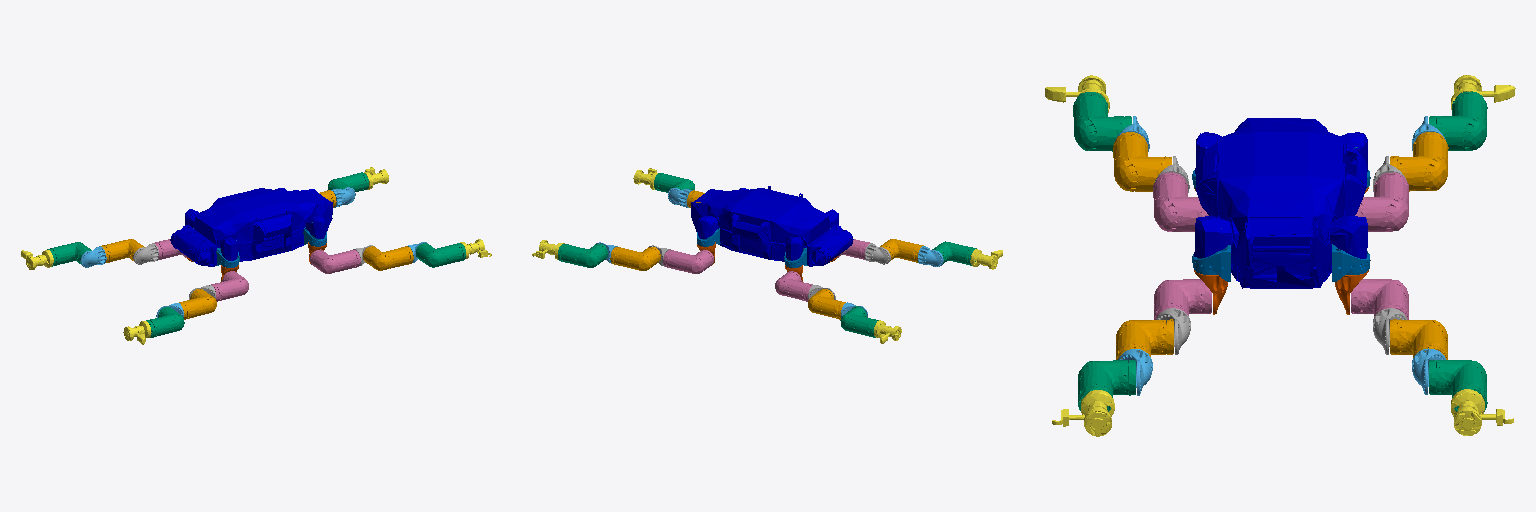
--- Render facts (derived) ---
3 views of the same robot in one strip: view 1: azimuth 30°, elevation 25°; view 2: azimuth 150°, elevation 25°; view 3: azimuth 270°, elevation 25° (orthographic).
Robot: robosimian_caesar — 36 links, 35 joints (17 revolute, 2 prismatic, 16 fixed); root link virtual0; default pose: every joint at zero.
Visible links, largest first — view 1: torso, limb1_link2, limb1_link4, limb1_link6, limb2_link6, limb2_link2, limb2_link4, limb3_link6, limb3_link4, limb4_link6; view 2: torso, limb4_link2, limb4_link4, limb4_link6, limb3_link6, limb3_link2, limb3_link4, limb2_link6, limb2_link4, limb1_link6; view 3: torso, limb2_link4, limb2_link6, limb3_link6, limb3_link4, limb3_link2, limb2_link2, limb1_link6, limb4_link6, limb4_link4, limb1_link4, limb4_link2 (+13 smaller).
Boxes of the visible links, left/top/right/bottom form: torso: left=170, top=188, right=332, bottom=266; limb1_link2: left=310, top=249, right=360, bottom=273; limb1_link4: left=363, top=246, right=413, bottom=270; limb1_link6: left=416, top=243, right=465, bottom=267; limb2_link6: left=146, top=307, right=184, bottom=337; limb2_link2: left=211, top=271, right=248, bottom=301; limb2_link4: left=179, top=289, right=216, bottom=319; limb3_link6: left=47, top=242, right=91, bottom=266; limb3_link4: left=101, top=239, right=144, bottom=262; limb4_link6: left=328, top=172, right=368, bottom=191; torso: left=691, top=186, right=853, bottom=266; limb4_link2: left=663, top=250, right=713, bottom=273; limb4_link4: left=610, top=247, right=660, bottom=270; limb4_link6: left=558, top=244, right=607, bottom=267; limb3_link6: left=840, top=306, right=878, bottom=337; limb3_link2: left=775, top=271, right=812, bottom=301; limb3_link4: left=808, top=289, right=845, bottom=319; limb2_link6: left=932, top=241, right=976, bottom=265; limb2_link4: left=880, top=239, right=923, bottom=262; limb1_link6: left=654, top=173, right=694, bottom=192; torso: left=1194, top=118, right=1367, bottom=288; limb2_link4: left=1113, top=132, right=1171, bottom=191; limb2_link6: left=1073, top=92, right=1131, bottom=151; limb3_link6: left=1429, top=91, right=1487, bottom=150; limb3_link4: left=1390, top=132, right=1448, bottom=191; limb3_link2: left=1355, top=172, right=1408, bottom=231; limb2_link2: left=1153, top=172, right=1208, bottom=231; limb1_link6: left=1078, top=360, right=1135, bottom=411; limb4_link6: left=1429, top=360, right=1487, bottom=411; limb4_link4: left=1390, top=319, right=1447, bottom=359; limb1_link4: left=1116, top=319, right=1173, bottom=359; limb4_link2: left=1351, top=279, right=1408, bottom=319.
Bounding box of the posed robot: 2.39 × 1.41 × 0.3943 m (x, y, z).
33 mesh visuals loaded from 6 distinct referenced files (6 binary STL).

robot.urdf — robosimian_caesar:
<robot name="robosimian_caesar">
  <link name="virtual0">
    <inertial>
      <origin xyz="0 0 0" rpy="0 0 0"/>
      <mass value="0"/>
      <inertia ixx="0" ixy="0" ixz="0" iyy="0" iyz="0" izz="0" />
    </inertial>
  </link>

  <link name="virtual1">
    <inertial>
      <origin xyz="0 0 0" rpy="0 0 0"/>
      <mass value="0"/>
      <inertia ixx="0" ixy="0" ixz="0" iyy="0" iyz="0" izz="0" />
    </inertial>
  </link>

  <link name="virtual2">
    <inertial>
      <origin xyz="0 0 0" rpy="0 0 0"/>
      <mass value="0"/>
      <inertia ixx="0" ixy="0" ixz="0" iyy="0" iyz="0" izz="0" />
    </inertial>
  </link>

   <link name="torso">
      <inertial>
        <mass value="40.000000" />
        <origin xyz="-0.000820 -0.002060 -0.021800" rpy="0 0 0" />
        <inertia ixx="0.248970" ixy="0.000000" ixz="0.000000" iyy="0.703230" iyz="0.001820" izz="0.772560" />
      </inertial>
      <visual>
        <origin xyz="0 0 0" rpy="3.1415926 0 0" />
        <geometry>
           <mesh filename="stl_0_3/robosim_chassis.stl" scale="1 1 1" />
        </geometry>
        <material name="blue">
	      <color rgba="0 0 .8 1" />
        </material>
      </visual>
      <collision group="default">
        <origin rpy="3.1415926 0 0" xyz="0 0 0"/>
        <geometry>
           <box size="0.257 0.50 0.238"/>
        </geometry>
      </collision>
      <collision group="default">
        <origin rpy="3.1415926 0 0" xyz="0 0 0"/>
        <geometry>
           <box size="0.93 0.230 0.238"/>
        </geometry>
      </collision>
      <collision group="default">
        <origin rpy="3.1415926 0 -0.38153" xyz="0.25393 0.075769 0"/>
        <geometry>
           <box size="0.36257 0.23 0.238"/>
        </geometry>
      </collision>
      <collision group="default">
        <origin rpy="3.1415926 0 0.38153" xyz="-0.25393 0.075769 0"/>
        <geometry>
           <box size="0.36257 0.23 0.238"/>
        </geometry>
      </collision>
      <collision group="default">
        <origin rpy="3.1415926 0 0.38153" xyz="0.25393 -0.075769 0"/>
        <geometry>
           <box size="0.36257 0.23 0.238"/>
        </geometry>
      </collision>
      <collision group="default">
        <origin rpy="3.1415926 0 -0.38153" xyz="-0.25393 -0.075769 0"/>
        <geometry>
           <box size="0.36257 0.23 0.238"/>
        </geometry>
      </collision>
      <collision group="default">
        <origin rpy="3.1415926 -0.383972 0.000000" xyz="0.417050 0.000000 -0.158640"/>
        <geometry>
          <cylinder length="0.144" radius="0.05"/>
        </geometry>
      </collision>
   </link>

   <link name="limb1_link0">
      <inertial>
        <mass value="0.000000" />
        <origin xyz="0.000000 0.000000 0.000000" rpy="0 0 0" />
        <inertia ixx="0.000000" ixy="0.000000" ixz="0.000000" iyy="0.000000" iyz="0.000000" izz="0.000000" />
      </inertial>
      <visual>
        <origin xyz="0.000000 0 0" rpy="0 0 0" />
        <geometry>
           <mesh filename="stl_0_3/robosim_fts.stl" scale="1 1 1" />
        </geometry>
      </visual>
      <collision group="default">
        <origin rpy="3.1415 -1.57080 0" xyz="-.025 0 0"/>
        <geometry>
          <cylinder length="0.145" radius="0.05"/>
        </geometry>
      </collision>
   </link>

   <link name="limb1_link1">
      <inertial>
        <mass value="0.429000" />
        <origin xyz="-0.050402 0.012816 0.000000" rpy="0 0 0" />
        <inertia ixx="0.000741" ixy="-0.000215" ixz="0.000000" iyy="0.002044" iyz="0.000000" izz="0.001885" />
      </inertial>
      <visual>
        <origin xyz="0.000000 0 0" rpy="0 0 0" />
        <geometry>
           <mesh filename="stl_0_3/robosim_pitch_link.stl" scale="1 1 1" />
        </geometry>
      </visual>
      <collision group="default">
        <origin rpy="3.1415 -1.57080 0" xyz="-0.07 0 0"/>
        <geometry>
          <cylinder length="0.07" radius="0.055"/>
        </geometry>
      </collision>
   </link>

   <link name="limb1_link2">
      <inertial>
        <mass value="3.975000" />
        <origin xyz="0.067354 -0.096472 0.000262" rpy="0 0 0" />
        <inertia ixx="0.044712" ixy="-0.030354" ixz="0.000012" iyy="0.033445" iyz="-0.000141" izz="0.074293" />
      </inertial>
      <visual>
        <origin xyz="0.000000 0 0" rpy="0 0 0" />
        <geometry>
           <mesh filename="stl_0_3/robosim_roll_link.stl" scale="1 1 1" />
        </geometry>
      </visual>
      <collision group="default">
        <origin rpy="3.1415 -1.57080 0" xyz="0.065 -0.12 0"/>
        <geometry>
          <cylinder length="0.24" radius="0.055"/>
        </geometry>
      </collision>
      <collision group="default">
        <origin rpy="1.57080 1.57080 0.0" xyz="0.0 -0.035 0"/>
        <geometry>
          <cylinder length="0.075" radius="0.055"/>
        </geometry>
      </collision>
   </link>

   <link name="limb1_link3">
      <inertial>
        <mass value="0.429000" />
        <origin xyz="-0.050402 0.012816 0.000000" rpy="0 0 0" />
        <inertia ixx="0.000741" ixy="-0.000215" ixz="0.000000" iyy="0.002044" iyz="0.000000" izz="0.001885" />
      </inertial>
      <visual>
        <origin xyz="0.000000 0 0" rpy="0 0 0" />
        <geometry>
           <mesh filename="stl_0_3/robosim_pitch_link.stl" scale="1 1 1" />
        </geometry>
      </visual>
      <collision group="default">
        <origin rpy="3.1415 -1.57080 0" xyz="-0.07 0 0"/>
        <geometry>
          <cylinder length="0.07" radius="0.055"/>
        </geometry>
      </collision>
   </link>

   <link name="limb1_link4">
      <inertial>
        <mass value="3.975000" />
        <origin xyz="0.067354 -0.096472 0.000262" rpy="0 0 0" />
        <inertia ixx="0.044712" ixy="-0.030354" ixz="0.000012" iyy="0.033445" iyz="-0.000141" izz="0.074293" />
      </inertial>
      <visual>
        <origin xyz="0.000000 0 0" rpy="0 0 0" />
        <geometry>
           <mesh filename="stl_0_3/robosim_roll_link.stl" scale="1 1 1" />
        </geometry>
      </visual>
      <collision group="default">
        <origin rpy="3.1415 -1.57080 0" xyz="0.065 -0.12 0"/>
        <geometry>
          <cylinder length="0.24" radius="0.055"/>
        </geometry>
      </collision>
      <collision group="default">
        <origin rpy="1.57080 1.57080 0.0" xyz="0.0 -0.035 0"/>
        <geometry>
          <cylinder length="0.075" radius="0.055"/>
        </geometry>
      </collision>
   </link>

   <link name="limb1_link5">
      <inertial>
        <mass value="0.429000" />
        <origin xyz="-0.050402 0.012816 0.000000" rpy="0 0 0" />
        <inertia ixx="0.000741" ixy="-0.000215" ixz="0.000000" iyy="0.002044" iyz="0.000000" izz="0.001885" />
      </inertial>
      <visual>
        <origin xyz="0.000000 0 0" rpy="0 0 0" />
        <geometry>
           <mesh filename="stl_0_3/robosim_pitch_link.stl" scale="1 1 1" />
        </geometry>
      </visual>
      <collision group="default">
        <origin rpy="3.1415 -1.57080 0" xyz="-0.07 0 0"/>
        <geometry>
          <cylinder length="0.07" radius="0.055"/>
        </geometry>
      </collision>
   </link>

   <link name="limb1_link6">
      <inertial>
        <mass value="3.975000" />
        <origin xyz="0.067354 -0.096472 0.000262" rpy="0 0 0" />
        <inertia ixx="0.044712" ixy="-0.030354" ixz="0.000012" iyy="0.033445" iyz="-0.000141" izz="0.074293" />
      </inertial>
      <visual>
        <origin xyz="0.000000 0 0" rpy="0 0 0" />
        <geometry>
           <mesh filename="stl_0_3/robosim_roll_link.stl" scale="1 1 1" />
        </geometry>
      </visual>
      <collision group="default">
        <origin rpy="3.1415 -1.57080 0" xyz="0.065 -0.12 0"/>
        <geometry>
          <cylinder length="0.24" radius="0.055"/>
        </geometry>
      </collision>
      <collision group="default">
        <origin rpy="1.57080 1.57080 0.0" xyz="0.0 -0.035 0"/>
        <geometry>
          <cylinder length="0.075" radius="0.055"/>
        </geometry>
      </collision>
   </link>

   <link name="limb1_link7">
      <inertial>
        <mass value="1.760000" />
        <origin xyz="0.112290 -0.000164 0.000000" rpy="0 0 0" />
        <inertia ixx="0.001913" ixy="-0.000007" ixz="0.000000" iyy="0.006680" iyz="0.000000" izz="0.006125" />
      </inertial>
      <visual>
        <origin xyz="0.000000 0 0" rpy="0 0 0" />
        <geometry>
           <mesh filename="stl_0_3/top_limb.stl" scale="0.001 0.001 0.001" />
        </geometry>
      </visual>
      <collision group="default">
        <origin rpy="3.1415 -1.57080 0" xyz="0.073 0 0"/>
        <geometry>
          <cylinder length="0.146" radius="0.05"/>
        </geometry>
      </collision>
   </link>




    <joint name="torso_x" type="prismatic">
      <origin xyz="0.0 0.0 0.0"  rpy="0.00000 -0.00000 0.00000" />
      <axis xyz="1 0 0" />
      <parent link="virtual0" />
      <child link="virtual1" />
      <limit effort="100000.0" lower="-1000" upper="1000" velocity="0"/>
   </joint>

      <joint name="torso_z" type="prismatic">
      <origin xyz="0.0 0.0 0.0"  rpy="0.00000 -0.00000 0.00000" />
      <axis xyz="0 0 1" />
      <parent link="virtual1" />
      <child link="virtual2" />
      <limit effort="100000.0" lower="-1000" upper="1000" velocity="0"/>
   </joint>


   <joint name="torso_a" type="revolute">
      <origin xyz="0.0 0.0 0.0"  rpy="0.00000 -0.00000 0.00000" />
      <axis xyz="0 1 0" />
      <parent link="virtual2" />
      <child link="torso" />
      <limit effort="1000.0" lower="-3" upper="3" velocity="100"/>
   </joint>

   <joint name="limb1_joint0" type="fixed">
      <origin xyz="0.29326 -0.20940 -0.03650"  rpy="0.00000 1.57080 3.1515926" />
      <parent link="torso" />
      <child link="limb1_link0" />
      <axis xyz="0 0 1" />
      <limit effort="1000.0" lower="-3.4906" upper="3.4906" velocity="0.5"/>
      <dynamics damping="0" friction="0"/>
   </joint>

   <joint name="limb1_joint1" type="fixed">
      <origin xyz="0.17203 0.00000 0.00000"  rpy="3.14159 -0.00000 0.00000" />
      <axis xyz="1 0 0" />
      <parent link="limb1_link0" />
      <child link="limb1_link1" />
      <limit effort="1000.0" lower="-3.1415" upper="3.1415" velocity="0.5"/>
      <dynamics damping="1.000000" friction="10.000000"/>
   </joint>

   <joint name="limb1_joint2" type="revolute">
      <origin xyz="0.00000 0.00000 0.00000"  rpy="0.00000 -1.5708 0.00000" />
      <axis xyz="0 -1 0" />
      <parent link="limb1_link1" />
      <child link="limb1_link2" />
      <limit effort="1000.0" lower="-3.1415" upper="3.1415" velocity="0.5"/>
      <dynamics damping="1.000000" friction="10.000000"/>
   </joint>

   <joint name="limb1_joint3" type="fixed">
      <origin xyz="0.28650 -0.11700 0.00000"  rpy="0.00000 -0.00000 0.00000" />
      <axis xyz="1 0 0" />
      <parent link="limb1_link2" />
      <child link="limb1_link3" />
      <limit effort="1000.0" lower="-3.1415" upper="3.1415" velocity="0.5"/>
      <dynamics damping="1.000000" friction="10.000000"/>
   </joint>

   <joint name="limb1_joint4" type="revolute">
      <origin xyz="0.00000 0.00000 0.00000"  rpy="0.00000 -0.00000 0.00000" />
      <axis xyz="0 -1 0" />
      <parent link="limb1_link3" />
      <child link="limb1_link4" />
      <limit effort="1000.0" lower="-3.1415" upper="3.1415" velocity="0.5"/>
      <dynamics damping="1.000000" friction="10.000000"/>
   </joint>

   <joint name="limb1_joint5" type="fixed">
      <origin xyz="0.28650 -0.11700 0.00000"  rpy="0.00000 -0.00000 0.00000" />
      <axis xyz="1 0 0" />
      <parent link="limb1_link4" />
      <child link="limb1_link5" />
      <limit effort="1000.0" lower="-3.1415" upper="3.1415" velocity="0.5"/>
      <dynamics damping="1.000000" friction="10.000000"/>
   </joint>

   <joint name="limb1_joint6" type="revolute">
      <origin xyz="0.00000 0.00000 0.00000"  rpy="0.00000 -0.00000 0.00000" />
      <axis xyz="0 -1 0" />
      <parent link="limb1_link5" />
      <child link="limb1_link6" />
      <limit effort="1000.0" lower="-3.1415" upper="3.1415" velocity="0.5"/>
      <dynamics damping="1.000000" friction="10.000000"/>
   </joint>

   <joint name="limb1_joint7" type="revolute">
      <origin xyz="0.19250 -0.11700 0.00000"  rpy="0.00000 -0.00000 0.00000" />
      <axis xyz="1 0 0" />
      <parent link="limb1_link6" />
      <child link="limb1_link7" />
      <limit effort="0.0" lower="0" upper="0" velocity="0"/>
      <dynamics damping="1.000000" friction="10.000000"/>
   </joint>



   <link name="limb2_link0">
      <inertial>
        <mass value="0.000000" />
        <origin xyz="0.000000 0.000000 0.000000" rpy="0 0 0" />
        <inertia ixx="0.000000" ixy="0.000000" ixz="0.000000" iyy="0.000000" iyz="0.000000" izz="0.000000" />
      </inertial>
      <visual>
        <origin xyz="0.000000 0 0" rpy="0 0 0" />
        <geometry>
           <mesh filename="stl_0_3/robosim_fts.stl" scale="1 1 1" />
        </geometry>
      </visual>
      <collision group="default">
        <origin rpy="3.1415 -1.57080 0" xyz="-.025 0 0"/>
        <geometry>
          <cylinder length="0.145" radius="0.05"/>
        </geometry>
      </collision>
   </link>

   <link name="limb2_link1">
      <inertial>
        <mass value="0.429000" />
        <origin xyz="-0.050402 0.012816 0.000000" rpy="0 0 0" />
        <inertia ixx="0.000741" ixy="-0.000215" ixz="0.000000" iyy="0.002044" iyz="0.000000" izz="0.001885" />
      </inertial>
      <visual>
        <origin xyz="0.000000 0 0" rpy="0 0 0" />
        <geometry>
           <mesh filename="stl_0_3/robosim_pitch_link.stl" scale="1 1 1" />
        </geometry>
      </visual>
      <collision group="default">
        <origin rpy="3.1415 -1.57080 0" xyz="-0.07 0 0"/>
        <geometry>
          <cylinder length="0.07" radius="0.055"/>
        </geometry>
      </collision>
   </link>

   <link name="limb2_link2">
      <inertial>
        <mass value="3.975000" />
        <origin xyz="0.067354 -0.096472 0.000262" rpy="0 0 0" />
        <inertia ixx="0.044712" ixy="-0.030354" ixz="0.000012" iyy="0.033445" iyz="-0.000141" izz="0.074293" />
      </inertial>
      <visual>
        <origin xyz="0.000000 0 0" rpy="0 0 0" />
        <geometry>
           <mesh filename="stl_0_3/robosim_roll_link.stl" scale="1 1 1" />
        </geometry>
      </visual>
      <collision group="default">
        <origin rpy="3.1415 -1.57080 0" xyz="0.065 -0.12 0"/>
        <geometry>
          <cylinder length="0.24" radius="0.055"/>
        </geometry>
      </collision>
      <collision group="default">
        <origin rpy="1.57080 1.57080 0.0" xyz="0.0 -0.035 0"/>
        <geometry>
          <cylinder length="0.075" radius="0.055"/>
        </geometry>
      </collision>
   </link>

   <link name="limb2_link3">
      <inertial>
        <mass value="0.429000" />
        <origin xyz="-0.050402 0.012816 0.000000" rpy="0 0 0" />
        <inertia ixx="0.000741" ixy="-0.000215" ixz="0.000000" iyy="0.002044" iyz="0.000000" izz="0.001885" />
      </inertial>
      <visual>
        <origin xyz="0.000000 0 0" rpy="0 0 0" />
        <geometry>
           <mesh filename="stl_0_3/robosim_pitch_link.stl" scale="1 1 1" />
        </geometry>
      </visual>
      <collision group="default">
        <origin rpy="3.1415 -1.57080 0" xyz="-0.07 0 0"/>
        <geometry>
          <cylinder length="0.07" radius="0.055"/>
        </geometry>
      </collision>
   </link>

   <link name="limb2_link4">
      <inertial>
        <mass value="3.975000" />
        <origin xyz="0.067354 -0.096472 0.000262" rpy="0 0 0" />
        <inertia ixx="0.044712" ixy="-0.030354" ixz="0.000012" iyy="0.033445" iyz="-0.000141" izz="0.074293" />
      </inertial>
      <visual>
        <origin xyz="0.000000 0 0" rpy="0 0 0" />
        <geometry>
           <mesh filename="stl_0_3/robosim_roll_link.stl" scale="1 1 1" />
        </geometry>
      </visual>
      <collision group="default">
        <origin rpy="3.1415 -1.57080 0" xyz="0.065 -0.12 0"/>
        <geometry>
          <cylinder length="0.24" radius="0.055"/>
        </geometry>
      </collision>
      <collision group="default">
        <origin rpy="1.57080 1.57080 0.0" xyz="0.0 -0.035 0"/>
        <geometry>
          <cylinder length="0.075" radius="0.055"/>
        </geometry>
      </collision>
   </link>

   <link name="limb2_link5">
      <inertial>
        <mass value="0.429000" />
        <origin xyz="-0.050402 0.012816 0.000000" rpy="0 0 0" />
        <inertia ixx="0.000741" ixy="-0.000215" ixz="0.000000" iyy="0.002044" iyz="0.000000" izz="0.001885" />
      </inertial>
      <visual>
        <origin xyz="0.000000 0 0" rpy="0 0 0" />
        <geometry>
           <mesh filename="stl_0_3/robosim_pitch_link.stl" scale="1 1 1" />
        </geometry>
      </visual>
      <collision group="default">
        <origin rpy="3.1415 -1.57080 0" xyz="-0.07 0 0"/>
        <geometry>
          <cylinder length="0.07" radius="0.055"/>
        </geometry>
      </collision>
   </link>

   <link name="limb2_link6">
      <inertial>
        <mass value="3.975000" />
        <origin xyz="0.067354 -0.096472 0.000262" rpy="0 0 0" />
        <inertia ixx="0.044712" ixy="-0.030354" ixz="0.000012" iyy="0.033445" iyz="-0.000141" izz="0.074293" />
      </inertial>
      <visual>
        <origin xyz="0.000000 0 0" rpy="0 0 0" />
        <geometry>
           <mesh filename="stl_0_3/robosim_roll_link.stl" scale="1 1 1" />
        </geometry>
      </visual>
      <collision group="default">
        <origin rpy="3.1415 -1.57080 0" xyz="0.065 -0.12 0"/>
        <geometry>
          <cylinder length="0.24" radius="0.055"/>
        </geometry>
      </collision>
      <collision group="default">
        <origin rpy="1.57080 1.57080 0.0" xyz="0.0 -0.035 0"/>
        <geometry>
          <cylinder length="0.075" radius="0.055"/>
        </geometry>
      </collision>
      <collision group="default">
        <origin rpy="1.57080 1.57080 0.0" xyz="0.0 -0.19 0"/>
        <geometry>
          <cylinder length="0.0375" radius="0.080"/>
        </geometry>
      </collision>
   </link>

   <link name="limb2_link7">
      <inertial>
        <mass value="1.760000" />
        <origin xyz="0.112290 -0.000164 0.000000" rpy="0 0 0" />
        <inertia ixx="0.001913" ixy="-0.000007" ixz="0.000000" iyy="0.006680" iyz="0.000000" izz="0.006125" />
      </inertial>
      <visual>
        <origin xyz="0.000000 0 0" rpy="0 0 0" />
        <geometry>
           <mesh filename="stl_0_3/bottom_limb.stl" scale="0.001 0.001 0.001" />
        </geometry>
      </visual>
      <collision group="default">
        <origin rpy="3.1415 -1.57080 0" xyz="0.073 0 0"/>
        <geometry>
          <cylinder length="0.146" radius="0.05"/>
        </geometry>
      </collision>
   </link>


   <joint name="limb2_joint0" type="fixed">
      <origin xyz="-0.29326 -0.20940 -0.03650"  rpy="0.00000 1.57080 3.1515926" />
      <parent link="torso" />
      <child link="limb2_link0" />
      <axis xyz="0 0 1" />
      <limit effort="1000.0" lower="-3.4906" upper="3.4906" velocity="0.5"/>
      <dynamics damping="0" friction="0"/>
   </joint>

   <joint name="limb2_joint1" type="fixed">
      <origin xyz="0.17203 0.00000 0.00000"  rpy="3.14159 -0.00000 0.00000" />
      <axis xyz="1 0 0" />
      <parent link="limb2_link0" />
      <child link="limb2_link1" />
      <limit effort="1000.0" lower="-3.1415" upper="3.1415" velocity="0.5"/>
      <dynamics damping="1.000000" friction="10.000000"/>
   </joint>

   <joint name="limb2_joint2" type="revolute">
      <origin xyz="0.00000 0.00000 0.00000"  rpy="0.00000 1.57080 0.00000" />
      <axis xyz="0 -1 0" />
      <parent link="limb2_link1" />
      <child link="limb2_link2" />
      <limit effort="1000.0" lower="-3.1415" upper="3.1415" velocity="0.5"/>
      <dynamics damping="1.000000" friction="10.000000"/>
   </joint>

   <joint name="limb2_joint3" type="fixed">
      <origin xyz="0.28650 -0.11700 0.00000"  rpy="0.00000 -0.00000 0.00000" />
      <axis xyz="1 0 0" />
      <parent link="limb2_link2" />
      <child link="limb2_link3" />
      <limit effort="1000.0" lower="-3.1415" upper="3.1415" velocity="0.5"/>
      <dynamics damping="1.000000" friction="10.000000"/>
   </joint>

   <joint name="limb2_joint4" type="revolute">
      <origin xyz="0.00000 0.00000 0.00000"  rpy="0.00000 -0.00000 0.00000" />
      <axis xyz="0 -1 0" />
      <parent link="limb2_link3" />
      <child link="limb2_link4" />
      <limit effort="1000.0" lower="-3.1415" upper="3.1415" velocity="0.5"/>
      <dynamics damping="1.000000" friction="10.000000"/>
   </joint>

   <joint name="limb2_joint5" type="fixed">
      <origin xyz="0.28650 -0.11700 0.00000"  rpy="0.00000 -0.00000 0.00000" />
      <axis xyz="1 0 0" />
      <parent link="limb2_link4" />
      <child link="limb2_link5" />
      <limit effort="1000.0" lower="-3.1415" upper="3.1415" velocity="0.5"/>
      <dynamics damping="1.000000" friction="10.000000"/>
   </joint>

   <joint name="limb2_joint6" type="revolute">
      <origin xyz="0.00000 0.00000 0.00000"  rpy="0.00000 -0.00000 0.00000" />
      <axis xyz="0 -1 0" />
      <parent link="limb2_link5" />
      <child link="limb2_link6" />
      <limit effort="1000.0" lower="-3.1415" upper="3.1415" velocity="0.5"/>
      <dynamics damping="1.000000" friction="10.000000"/>
   </joint>

   <joint name="limb2_joint7" type="revolute">
      <origin xyz="0.19250 -0.11700 0.00000"  rpy="0.00000 -0.00000 0.00000" />
      <axis xyz="1 0 0" />
      <parent link="limb2_link6" />
      <child link="limb2_link7" />
      <limit effort="0.0" lower="0" upper="0" velocity="0"/>
      <dynamics damping="1.000000" friction="10.000000"/>
   </joint>




   <link name="limb3_link0">
      <inertial>
        <mass value="0.000000" />
        <origin xyz="0.000000 0.000000 0.000000" rpy="0 0 0" />
        <inertia ixx="0.000000" ixy="0.000000" ixz="0.000000" iyy="0.000000" iyz="0.000000" izz="0.000000" />
      </inertial>
      <visual>
        <origin xyz="0.000000 0 0" rpy="0 0 0" />
        <geometry>
           <mesh filename="stl_0_3/robosim_fts.stl" scale="1 1 1" />
        </geometry>
      </visual>
      <collision group="default">
        <origin rpy="3.1415 -1.57080 0" xyz="-.025 0 0"/>
        <geometry>
          <cylinder length="0.145" radius="0.05"/>
        </geometry>
      </collision>
   </link>

   <link name="limb3_link1">
      <inertial>
        <mass value="0.429000" />
        <origin xyz="-0.050402 0.012816 0.000000" rpy="0 0 0" />
        <inertia ixx="0.000741" ixy="-0.000215" ixz="0.000000" iyy="0.002044" iyz="0.000000" izz="0.001885" />
      </inertial>
      <visual>
        <origin xyz="0.000000 0 0" rpy="0 0 0" />
        <geometry>
           <mesh filename="stl_0_3/robosim_pitch_link.stl" scale="1 1 1" />
        </geometry>
      </visual>
      <collision group="default">
        <origin rpy="3.1415 -1.57080 0" xyz="-0.07 0 0"/>
        <geometry>
          <cylinder length="0.07" radius="0.055"/>
        </geometry>
      </collision>
   </link>

   <link name="limb3_link2">
      <inertial>
        <mass value="3.975000" />
        <origin xyz="0.067354 -0.096472 0.000262" rpy="0 0 0" />
        <inertia ixx="0.044712" ixy="-0.030354" ixz="0.000012" iyy="0.033445" iyz="-0.000141" izz="0.074293" />
      </inertial>
      <visual>
        <origin xyz="0.000000 0 0" rpy="0 0 0" />
        <geometry>
           <mesh filename="stl_0_3/robosim_roll_link.stl" scale="1 1 1" />
        </geometry>
      </visual>
      <collision group="default">
        <origin rpy="3.1415 -1.57080 0" xyz="0.065 -0.12 0"/>
        <geometry>
          <cylinder length="0.24" radius="0.055"/>
        </geometry>
      </collision>
      <collision group="default">
        <origin rpy="1.57080 1.57080 0.0" xyz="0.0 -0.035 0"/>
        <geometry>
          <cylinder length="0.075" radius="0.055"/>
        </geometry>
      </collision>
   </link>

   <link name="limb3_link3">
      <inertial>
        <mass value="0.429000" />
        <origin xyz="-0.050402 0.012816 0.000000" rpy="0 0 0" />
        <inertia ixx="0.000741" ixy="-0.000215" ixz="0.000000" iyy="0.002044" iyz="0.000000" izz="0.001885" />
      </inertial>
      <visual>
        <origin xyz="0.000000 0 0" rpy="0 0 0" />
        <geometry>
           <mesh filename="stl_0_3/robosim_pitch_link.stl" scale="1 1 1" />
        </geometry>
      </visual>
      <collision group="default">
        <origin rpy="3.1415 -1.57080 0" xyz="-0.07 0 0"/>
        <geometry>
          <cylinder length="0.07" radius="0.055"/>
        </geometry>
      </collision>
   </link>

   <link name="limb3_link4">
      <inertial>
        <mass value="3.975000" />
        <origin xyz="0.067354 -0.096472 0.000262" rpy="0 0 0" />
        <inertia ixx="0.044712" ixy="-0.030354" ixz="0.000012" iyy="0.033445" iyz="-0.000141" izz="0.074293" />
      </inertial>
      <visual>
        <origin xyz="0.000000 0 0" rpy="0 0 0" />
        <geometry>
           <mesh filename="stl_0_3/robosim_roll_link.stl" scale="1 1 1" />
        </geometry>
      </visual>
      <collision group="default">
        <origin rpy="3.1415 -1.57080 0" xyz="0.065 -0.12 0"/>
        <geometry>
          <cylinder length="0.24" radius="0.055"/>
        </geometry>
      </collision>
      <collision group="default">
        <origin rpy="1.57080 1.57080 0.0" xyz="0.0 -0.035 0"/>
        <geometry>
          <cylinder length="0.075" radius="0.055"/>
        </geometry>
      </collision>
   </link>

   <link name="limb3_link5">
      <inertial>
        <mass value="0.429000" />
        <origin xyz="-0.050402 0.012816 0.000000" rpy="0 0 0" />
        <inertia ixx="0.000741" ixy="-0.000215" ixz="0.000000" iyy="0.002044" iyz="0.000000" izz="0.001885" />
      </inertial>
      <visual>
        <origin xyz="0.000000 0 0" rpy="0 0 0" />
        <geometry>
           <mesh filename="stl_0_3/robosim_pitch_link.stl" scale="1 1 1" />
        </geometry>
      </visual>
      <collision group="default">
        <origin rpy="3.1415 -1.57080 0" xyz="-0.07 0 0"/>
        <geometry>
          <cylinder length="0.07" radius="0.055"/>
        </geometry>
      </collision>
   </link>

   <link name="limb3_link6">
      <inertial>
        <mass value="3.975000" />
        <origin xyz="0.067354 -0.096472 0.000262" rpy="0 0 0" />
        <inertia ixx="0.044712" ixy="-0.030354" ixz="0.000012" iyy="0.033445" iyz="-0.000141" izz="0.074293" />
      </inertial>
      <visual>
        <origin xyz="0.000000 0 0" rpy="0 0 0" />
        <geometry>
           <mesh filename="stl_0_3/robosim_roll_link.stl" scale="1 1 1" />
        </geometry>
      </visual>
      <collision group="default">
        <origin rpy="3.1415 -1.57080 0" xyz="0.065 -0.12 0"/>
        <geometry>
          <cylinder length="0.24" radius="0.055"/>
        </geometry>
      </collision>
      <collision group="default">
        <origin rpy="1.57080 1.57080 0.0" xyz="0.0 -0.035 0"/>
        <geometry>
          <cylinder length="0.075" radius="0.055"/>
        </geometry>
      </collision>
      <collision group="default">
        <origin rpy="1.57080 1.57080 0.0" xyz="0.0 -0.19 0"/>
        <geometry>
          <cylinder length="0.0375" radius="0.080"/>
        </geometry>
      </collision>
   </link>

   <link name="limb3_link7">
      <inertial>
        <mass value="1.760000" />
        <origin xyz="0.112290 -0.000164 0.000000" rpy="0 0 0" />
        <inertia ixx="0.001913" ixy="-0.000007" ixz="0.000000" iyy="0.006680" iyz="0.000000" izz="0.006125" />
      </inertial>
      <visual>
        <origin xyz="0.000000 0 0" rpy="0 0 0" />
        <geometry>
           <mesh filename="stl_0_3/bottom_limb.stl" scale="0.001 0.001 0.001" />
        </geometry>
      </visual>
      <collision group="default">
        <origin rpy="3.1415 -1.57080 0" xyz="0.073 0 0"/>
        <geometry>
          <cylinder length="0.146" radius="0.05"/>
        </geometry>
      </collision>
   </link>


   <joint name="limb3_joint0" type="fixed">
      <origin xyz="-0.29326 0.20940 -0.03650"  rpy="0.00000 1.57080 0" />
      <parent link="torso" />
      <child link="limb3_link0" />
      <axis xyz="0 0 1" />
      <limit effort="1000.0" lower="-3.4906" upper="3.4906" velocity="0.5"/>
      <dynamics damping="0" friction="0"/>
   </joint>

   <joint name="limb3_joint1" type="fixed">
      <origin xyz="0.17203 0.00000 0.00000"  rpy="3.14159 -0.00000 0.00000" />
      <axis xyz="1 0 0" />
      <parent link="limb3_link0" />
      <child link="limb3_link1" />
      <limit effort="1000.0" lower="-3.1415" upper="3.1415" velocity="0.5"/>
      <dynamics damping="1.000000" friction="10.000000"/>
   </joint>

   <joint name="limb3_joint2" type="revolute">
      <origin xyz="0.00000 0.00000 0.00000"  rpy="0.00000 -1.5708 0.00000" />
      <axis xyz="0 -1 0" />
      <parent link="limb3_link1" />
      <child link="limb3_link2" />
      <limit effort="1000.0" lower="-3.1415" upper="3.1415" velocity="0.5"/>
      <dynamics damping="1.000000" friction="10.000000"/>
   </joint>

   <joint name="limb3_joint3" type="fixed">
      <origin xyz="0.28650 -0.11700 0.00000"  rpy="0.00000 -0.00000 0.00000" />
      <axis xyz="1 0 0" />
      <parent link="limb3_link2" />
      <child link="limb3_link3" />
      <limit effort="1000.0" lower="-3.1415" upper="3.1415" velocity="0.5"/>
      <dynamics damping="1.000000" friction="10.000000"/>
   </joint>

   <joint name="limb3_joint4" type="revolute">
      <origin xyz="0.00000 0.00000 0.00000"  rpy="0.00000 -0.00000 0.00000" />
      <axis xyz="0 -1 0" />
      <parent link="limb3_link3" />
      <child link="limb3_link4" />
      <limit effort="1000.0" lower="-3.1415" upper="3.1415" velocity="0.5"/>
      <dynamics damping="1.000000" friction="10.000000"/>
   </joint>

   <joint name="limb3_joint5" type="fixed">
      <origin xyz="0.28650 -0.11700 0.00000"  rpy="0.00000 -0.00000 0.00000" />
      <axis xyz="1 0 0" />
      <parent link="limb3_link4" />
      <child link="limb3_link5" />
      <limit effort="1000.0" lower="-3.1415" upper="3.1415" velocity="0.5"/>
      <dynamics damping="1.000000" friction="10.000000"/>
   </joint>

   <joint name="limb3_joint6" type="revolute">
      <origin xyz="0.00000 0.00000 0.00000"  rpy="0.00000 -0.00000 0.00000" />
      <axis xyz="0 -1 0" />
      <parent link="limb3_link5" />
      <child link="limb3_link6" />
      <limit effort="1000.0" lower="-3.1415" upper="3.1415" velocity="0.5"/>
      <dynamics damping="1.000000" friction="10.000000"/>
   </joint>

   <joint name="limb3_joint7" type="revolute">
      <origin xyz="0.19250 -0.11700 0.00000"  rpy="0.00000 -0.00000 0.00000" />
      <axis xyz="1 0 0" />
      <parent link="limb3_link6" />
      <child link="limb3_link7" />
      <limit effort="0.0" lower="0" upper="0" velocity="0"/>
      <dynamics damping="1.000000" friction="10.000000"/>
   </joint>



   <link name="limb4_link0">
      <inertial>
        <mass value="0.000000" />
        <origin xyz="0.000000 0.000000 0.000000" rpy="0 0 0" />
        <inertia ixx="0.000000" ixy="0.000000" ixz="0.000000" iyy="0.000000" iyz="0.000000" izz="0.000000" />
      </inertial>
      <visual>
        <origin xyz="0.000000 0 0" rpy="0 0 0" />
        <geometry>
           <mesh filename="stl_0_3/robosim_fts.stl" scale="1 1 1" />
        </geometry>
      </visual>
      <collision group="default">
        <origin rpy="3.1415 -1.57080 0" xyz="-.025 0 0"/>
        <geometry>
          <cylinder length="0.145" radius="0.05"/>
        </geometry>
      </collision>
   </link>

   <link name="limb4_link1">
      <inertial>
        <mass value="0.429000" />
        <origin xyz="-0.050402 0.012816 0.000000" rpy="0 0 0" />
        <inertia ixx="0.000741" ixy="-0.000215" ixz="0.000000" iyy="0.002044" iyz="0.000000" izz="0.001885" />
      </inertial>
      <visual>
        <origin xyz="0.000000 0 0" rpy="0 0 0" />
        <geometry>
           <mesh filename="stl_0_3/robosim_pitch_link.stl" scale="1 1 1" />
        </geometry>
      </visual>
      <collision group="default">
        <origin rpy="3.1415 -1.57080 0" xyz="-0.07 0 0"/>
        <geometry>
          <cylinder length="0.07" radius="0.055"/>
        </geometry>
      </collision>
   </link>

   <link name="limb4_link2">
      <inertial>
        <mass value="3.975000" />
        <origin xyz="0.067354 -0.096472 0.000262" rpy="0 0 0" />
        <inertia ixx="0.044712" ixy="-0.030354" ixz="0.000012" iyy="0.033445" iyz="-0.000141" izz="0.074293" />
      </inertial>
      <visual>
        <origin xyz="0.000000 0 0" rpy="0 0 0" />
        <geometry>
           <mesh filename="stl_0_3/robosim_roll_link.stl" scale="1 1 1" />
        </geometry>
      </visual>
      <collision group="default">
        <origin rpy="3.1415 -1.57080 0" xyz="0.065 -0.12 0"/>
        <geometry>
          <cylinder length="0.24" radius="0.055"/>
        </geometry>
      </collision>
      <collision group="default">
        <origin rpy="1.57080 1.57080 0.0" xyz="0.0 -0.035 0"/>
        <geometry>
          <cylinder length="0.075" radius="0.055"/>
        </geometry>
      </collision>
   </link>

   <link name="limb4_link3">
      <inertial>
        <mass value="0.429000" />
        <origin xyz="-0.050402 0.012816 0.000000" rpy="0 0 0" />
        <inertia ixx="0.000741" ixy="-0.000215" ixz="0.000000" iyy="0.002044" iyz="0.000000" izz="0.001885" />
      </inertial>
      <visual>
        <origin xyz="0.000000 0 0" rpy="0 0 0" />
        <geometry>
           <mesh filename="stl_0_3/robosim_pitch_link.stl" scale="1 1 1" />
        </geometry>
      </visual>
      <collision group="default">
        <origin rpy="3.1415 -1.57080 0" xyz="-0.07 0 0"/>
        <geometry>
          <cylinder length="0.07" radius="0.055"/>
        </geometry>
      </collision>
   </link>

   <link name="limb4_link4">
      <inertial>
        <mass value="3.975000" />
        <origin xyz="0.067354 -0.096472 0.000262" rpy="0 0 0" />
        <inertia ixx="0.044712" ixy="-0.030354" ixz="0.000012" iyy="0.033445" iyz="-0.000141" izz="0.074293" />
      </inertial>
      <visual>
        <origin xyz="0.000000 0 0" rpy="0 0 0" />
        <geometry>
           <mesh filename="stl_0_3/robosim_roll_link.stl" scale="1 1 1" />
        </geometry>
      </visual>
      <collision group="default">
        <origin rpy="3.1415 -1.57080 0" xyz="0.065 -0.12 0"/>
        <geometry>
          <cylinder length="0.24" radius="0.055"/>
        </geometry>
      </collision>
      <collision group="default">
        <origin rpy="1.57080 1.57080 0.0" xyz="0.0 -0.035 0"/>
        <geometry>
          <cylinder length="0.075" radius="0.055"/>
        </geometry>
      </collision>
   </link>

   <link name="limb4_link5">
      <inertial>
        <mass value="0.429000" />
        <origin xyz="-0.050402 0.012816 0.000000" rpy="0 0 0" />
        <inertia ixx="0.000741" ixy="-0.000215" ixz="0.000000" iyy="0.002044" iyz="0.000000" izz="0.001885" />
      </inertial>
      <visual>
        <origin xyz="0.000000 0 0" rpy="0 0 0" />
        <geometry>
           <mesh filename="stl_0_3/robosim_pitch_link.stl" scale="1 1 1" />
        </geometry>
      </visual>
      <collision group="default">
        <origin rpy="3.1415 -1.57080 0" xyz="-0.07 0 0"/>
        <geometry>
          <cylinder length="0.07" radius="0.055"/>
        </geometry>
      </collision>
   </link>

   <link name="limb4_link6">
      <inertial>
        <mass value="3.975000" />
        <origin xyz="0.067354 -0.096472 0.000262" rpy="0 0 0" />
        <inertia ixx="0.044712" ixy="-0.030354" ixz="0.000012" iyy="0.033445" iyz="-0.000141" izz="0.074293" />
      </inertial>
      <visual>
        <origin xyz="0.000000 0 0" rpy="0 0 0" />
        <geometry>
           <mesh filename="stl_0_3/robosim_roll_link.stl" scale="1 1 1" />
        </geometry>
      </visual>
      <collision group="default">
        <origin rpy="3.1415 -1.57080 0" xyz="0.065 -0.12 0"/>
        <geometry>
          <cylinder length="0.24" radius="0.055"/>
        </geometry>
      </collision>
      <collision group="default">
        <origin rpy="1.57080 1.57080 0.0" xyz="0.0 -0.035 0"/>
        <geometry>
          <cylinder length="0.075" radius="0.055"/>
        </geometry>
      </collision>
   </link>


   <link name="limb4_link7">
      <inertial>
        <mass value="1.760000" />
        <origin xyz="0.112290 -0.000164 0.000000" rpy="0 0 0" />
        <inertia ixx="0.001913" ixy="-0.000007" ixz="0.000000" iyy="0.006680" iyz="0.000000" izz="0.006125" />
      </inertial>
      <visual>
        <origin xyz="0.000000 0 0" rpy="0 0 0" />
        <geometry>
           <mesh filename="stl_0_3/top_limb.stl" scale="0.001 0.001 0.001" />
        </geometry>
      </visual>
      <collision group="default">
        <origin rpy="3.1415 -1.57080 0" xyz="0.073 0 0"/>
        <geometry>
          <cylinder length="0.146" radius="0.05"/>
        </geometry>
      </collision>
   </link>


   <joint name="limb4_joint0" type="fixed">
      <origin xyz="0.29326 0.20940 -0.03650"  rpy="0.00000 1.57080 0" />
      <parent link="torso" />
      <child link="limb4_link0" />
      <axis xyz="0 0 1" />
      <limit effort="1000.0" lower="-3.4906" upper="3.4906" velocity="0.5"/>
      <dynamics damping="0" friction="0"/>
   </joint>

   <joint name="limb4_joint1" type="fixed">
      <origin xyz="0.17203 0.00000 0.00000"  rpy="3.14159 -0.00000 0.00000" />
      <axis xyz="1 0 0" />
      <parent link="limb4_link0" />
      <child link="limb4_link1" />
      <limit effort="1000.0" lower="-3.1415" upper="3.1415" velocity="0.5"/>
      <dynamics damping="1.000000" friction="10.000000"/>
   </joint>

   <joint name="limb4_joint2" type="revolute">
      <origin xyz="0.00000 0.00000 0.00000"  rpy="0.00000 1.5708 0.00000" />
      <axis xyz="0 -1 0" />
      <parent link="limb4_link1" />
      <child link="limb4_link2" />
      <limit effort="1000.0" lower="-3.1415" upper="3.1415" velocity="0.5"/>
      <dynamics damping="1.000000" friction="10.000000"/>
   </joint>

   <joint name="limb4_joint3" type="fixed">
      <origin xyz="0.28650 -0.11700 0.00000"  rpy="0.00000 -0.00000 0.00000" />
      <axis xyz="1 0 0" />
      <parent link="limb4_link2" />
      <child link="limb4_link3" />
      <limit effort="1000.0" lower="-3.1415" upper="3.1415" velocity="0.5"/>
      <dynamics damping="1.000000" friction="10.000000"/>
   </joint>

   <joint name="limb4_joint4" type="revolute">
      <origin xyz="0.00000 0.00000 0.00000"  rpy="0.00000 -0.00000 0.00000" />
      <axis xyz="0 -1 0" />
      <parent link="limb4_link3" />
      <child link="limb4_link4" />
      <limit effort="1000.0" lower="-3.1415" upper="3.1415" velocity="0.5"/>
      <dynamics damping="1.000000" friction="10.000000"/>
   </joint>

   <joint name="limb4_joint5" type="fixed">
      <origin xyz="0.28650 -0.11700 0.00000"  rpy="0.00000 -0.00000 0.00000" />
      <axis xyz="1 0 0" />
      <parent link="limb4_link4" />
      <child link="limb4_link5" />
      <limit effort="1000.0" lower="-3.1415" upper="3.1415" velocity="0.5"/>
      <dynamics damping="1.000000" friction="10.000000"/>
   </joint>

   <joint name="limb4_joint6" type="revolute">
      <origin xyz="0.00000 0.00000 0.00000"  rpy="0.00000 -0.00000 0.00000" />
      <axis xyz="0 -1 0" />
      <parent link="limb4_link5" />
      <child link="limb4_link6" />
      <limit effort="1000.0" lower="-3.1415" upper="3.1415" velocity="0.5"/>
      <dynamics damping="1.000000" friction="10.000000"/>
   </joint>


   <joint name="limb4_joint7" type="revolute">
      <origin xyz="0.19250 -0.11700 0.00000"  rpy="0.00000 -0.00000 0.00000" />
      <axis xyz="1 0 0" />
      <parent link="limb4_link6" />
      <child link="limb4_link7" />
      <limit effort="0.0" lower="0" upper="0" velocity="0"/>
      <dynamics damping="1.000000" friction="10.000000"/>
   </joint>

</robot>
